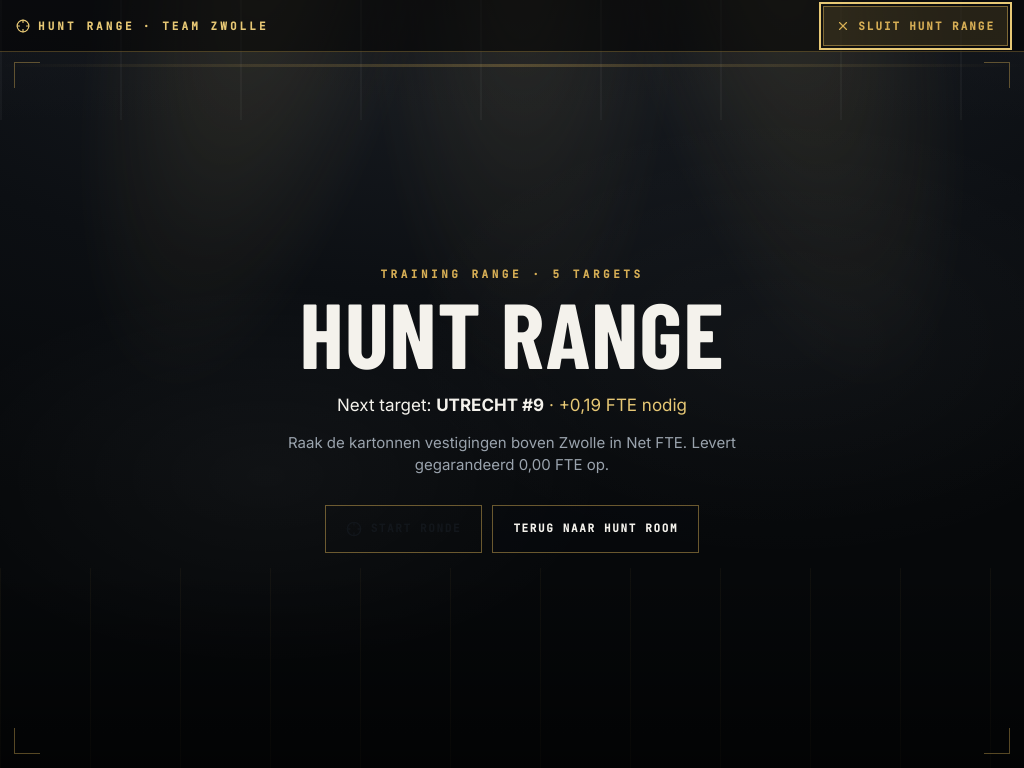
it: HuntRange › mobile: one lane, one target at a time
Click the button "Start ronde" at (404, 529), box [325, 505, 482, 553]
Wait 1950 ms
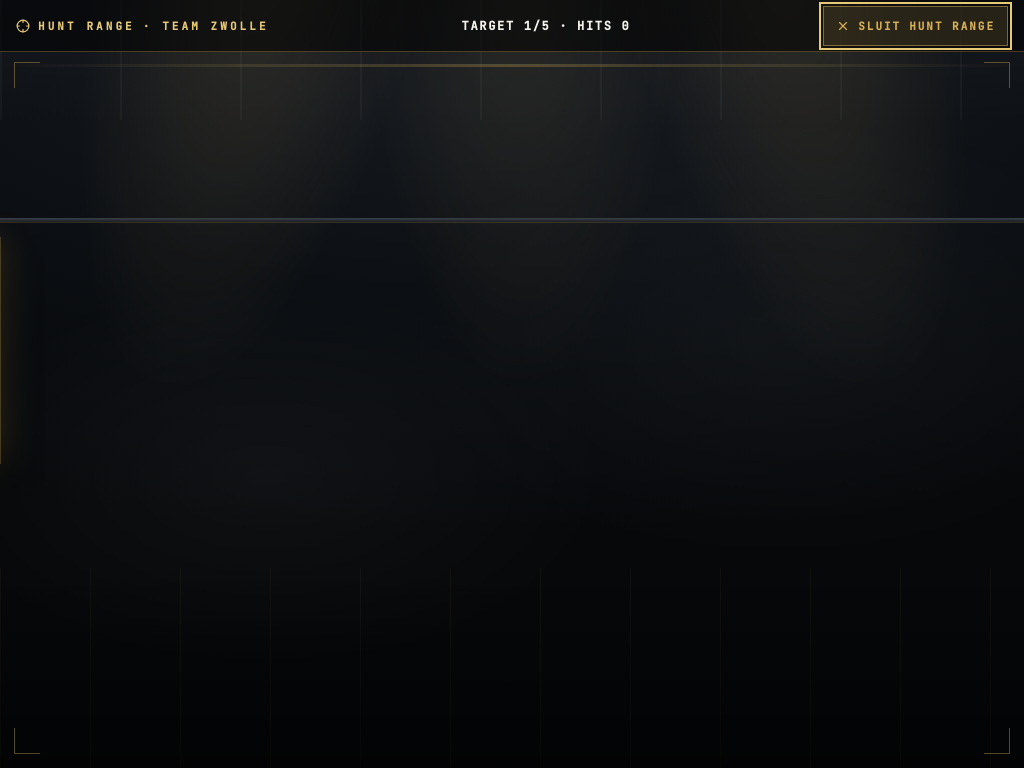
Expected: the number of elements with class "hr-lane" is 1, [0, 212, 1023, 488]
